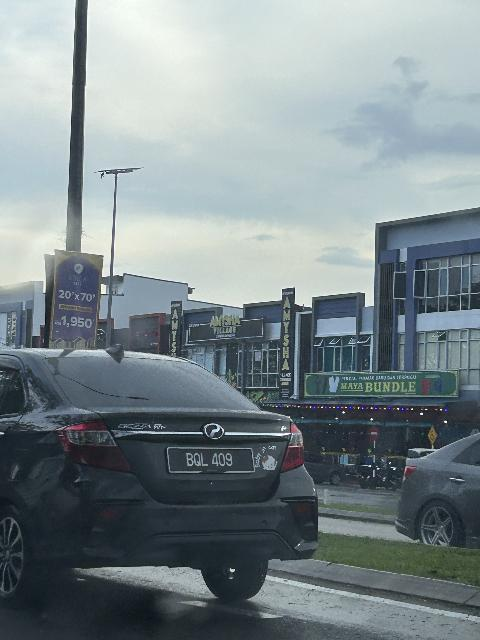License_Plate: (167, 447, 254, 476)
car: (6, 343, 326, 609)
